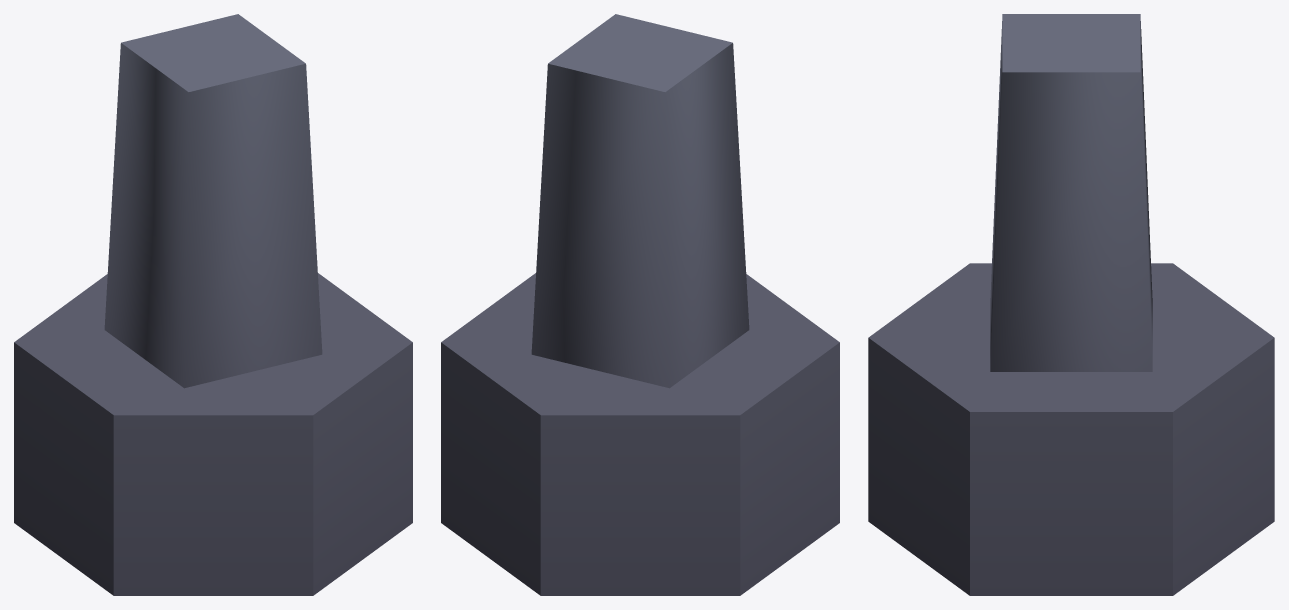
The model's file is debris-bolt.glb.
3 renders of one model, left to right at view 1: azimuth 30°, elevation 25°; view 2: azimuth 150°, elevation 25°; view 3: azimuth 270°, elevation 25°, orthographic.
Visible parts, largest first — view 1: debris-bolt; view 2: debris-bolt; view 3: debris-bolt.
Part boxes in pixels (box(x1,y1,x2,y2)): debris-bolt: box(14, 14, 412, 595); debris-bolt: box(441, 14, 839, 595); debris-bolt: box(868, 14, 1274, 595).
Bounding box in the file's own units: 0.1732 × 0.26 × 0.2.
